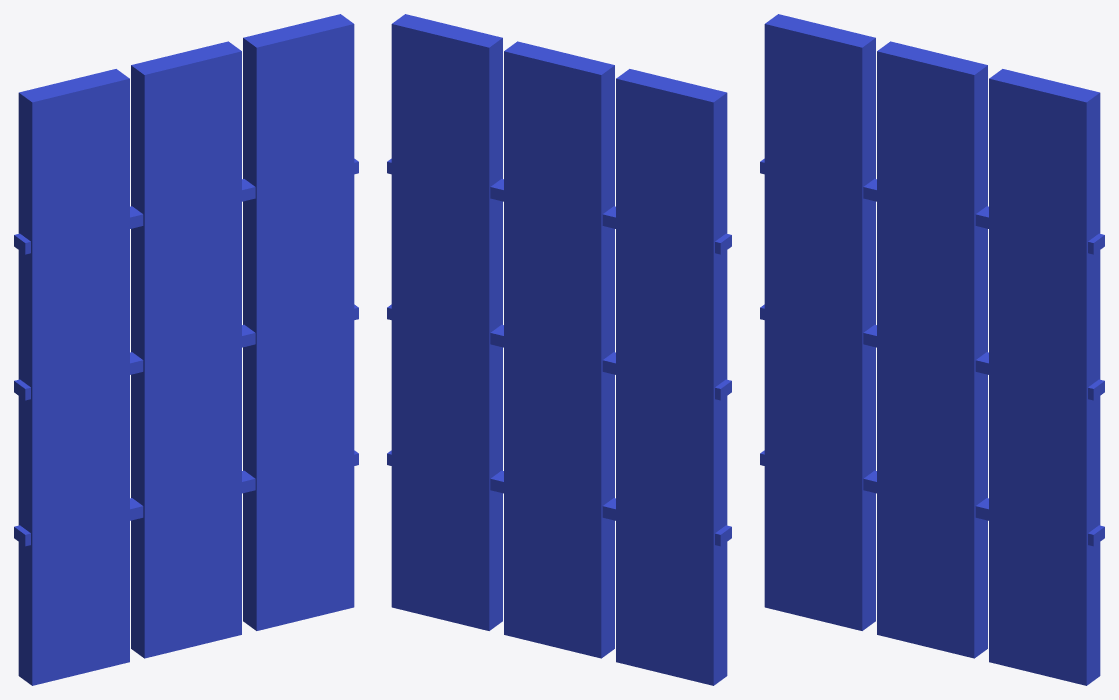
The model's file is Path.fbx.
3 renders of one model, left to right at view 1: azimuth 30°, elevation 25°; view 2: azimuth 150°, elevation 25°; view 3: azimuth 330°, elevation 25°, orthographic.
Visible parts, largest first — view 1: Path; view 2: Path; view 3: Path.
Part boxes in pixels (x1,y1,x2,y2): Path: (14, 14, 358, 685); Path: (387, 14, 731, 685); Path: (760, 14, 1104, 685).
Size of the model in its own units: 3.66 by 6.11 by 0.2573.
